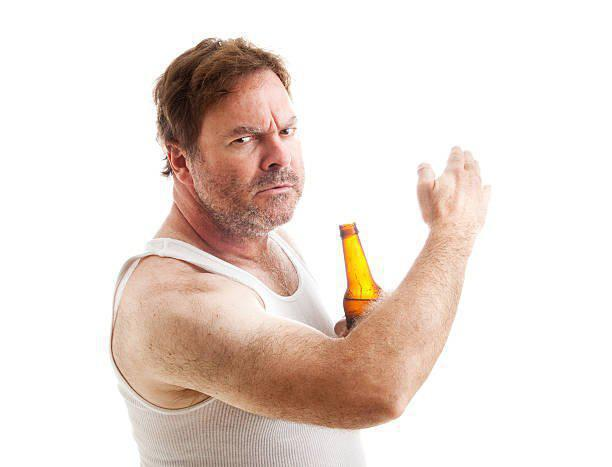Drunk: (203, 92, 303, 222)
